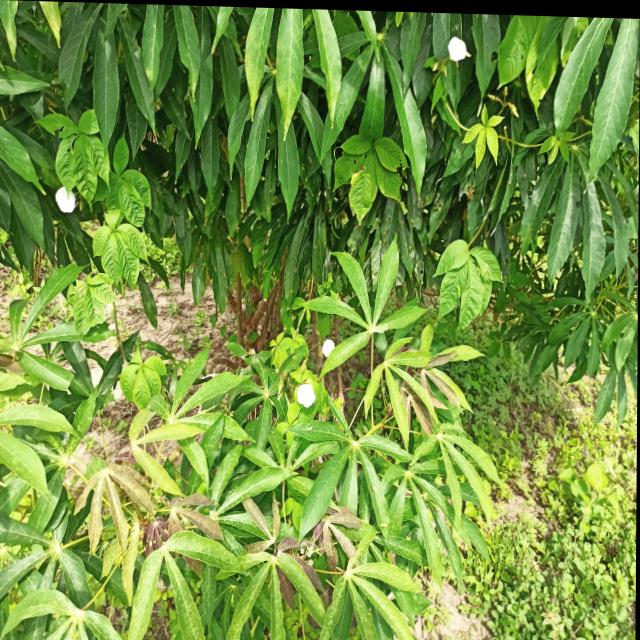Maleza: (506, 403, 640, 631), (325, 132, 417, 214), (39, 107, 109, 203), (427, 234, 499, 326), (84, 213, 164, 289), (89, 140, 156, 230), (65, 268, 116, 330), (458, 101, 500, 167), (119, 352, 168, 400)
Mosaico: (314, 513, 364, 568), (159, 498, 220, 537)
Mosca: (379, 515, 391, 535), (304, 422, 315, 435)
